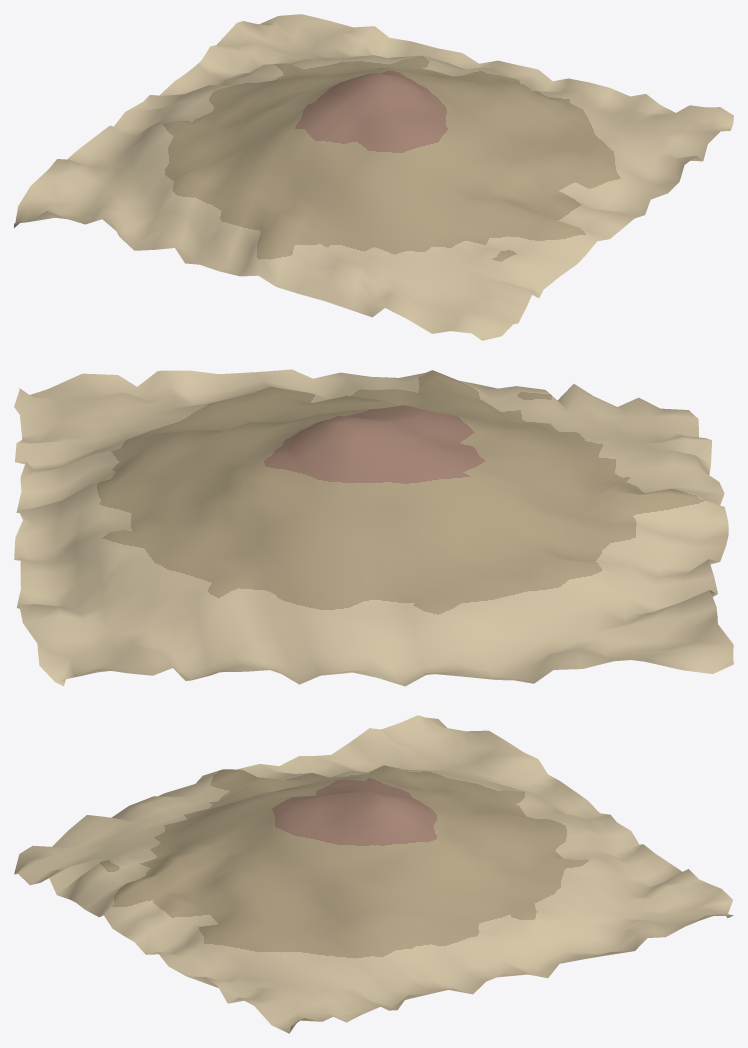
Rendered from pañuelo.fbx.
3 renders of one model, top to bottom at view 1: azimuth 30°, elevation 25°; view 2: azimuth 150°, elevation 25°; view 3: azimuth 270°, elevation 25°, orthographic. The views are drawn at different scales.
Parts seen in each view (by area): view 1: pañuelo; view 2: pañuelo; view 3: pañuelo.
Boxes of the visible parts, <box> form: pañuelo: <box>14,14,733,340</box>; pañuelo: <box>14,369,733,686</box>; pañuelo: <box>14,715,733,1033</box>.
Size of the model in its own units: 310 by 51.76 by 302.
